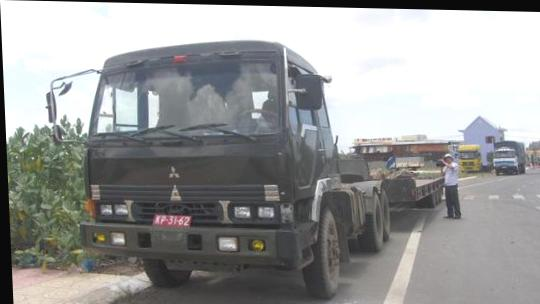License_Plate: (148, 213, 195, 230)
